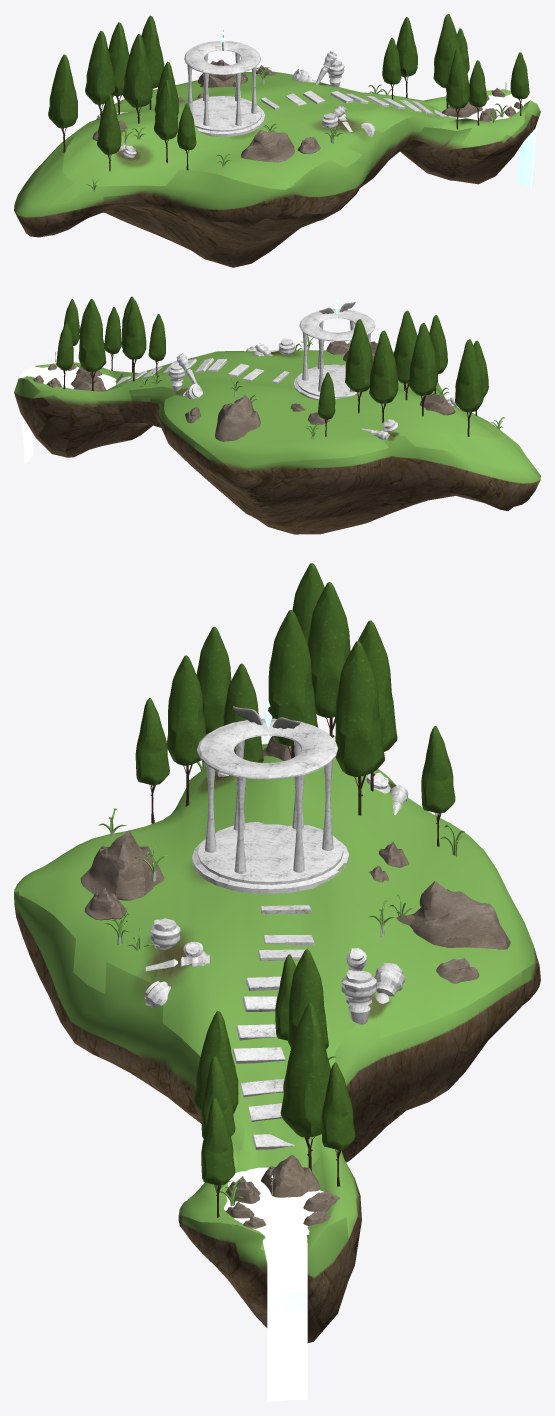
File: fantasy-environment.fbx
3 renders of one model, top to bottom at view 1: azimuth 30°, elevation 25°; view 2: azimuth 150°, elevation 25°; view 3: azimuth 270°, elevation 25°, orthographic. The views are drawn at different scales.
Visible parts, largest first — view 1: Landmass, Temple_with_Sceptre:Large_Crystal, Tree20, Tree24, Tree19, Water, Rock1, Tree27, Tree28, Tree26, Tree21, Tree22 (+10 smaller); view 2: Landmass, Temple_with_Sceptre:Large_Crystal, Tree20, Tree19, Tree22, Tree27, Tree23, Rock25, Water, Tree24, Tree11, Tree26 (+9 smaller); view 3: Landmass, Temple_with_Sceptre:Large_Crystal, Water, Tree23, Tree27, Rock25, Tree24, Tree19, Rock1, Tree26, Tree21, Tree34 (+12 smaller).
Boxes of the visible parts, x1,y1,x2,y2 form: Landmass: (14,71,540,267); Temple_with_Sceptre:Large_Crystal: (184,30,265,136); Tree20: (48,54,77,152); Tree24: (122,34,152,123); Tree19: (85,31,114,119); Water: (447,94,539,188); Rock1: (241,130,294,162); Tree27: (433,14,461,108); Tree28: (446,48,469,129); Tree26: (153,80,177,162); Tree21: (97,95,121,171); Tree22: (108,22,129,114); Landmass: (14,350,540,534); Temple_with_Sceptre:Large_Crystal: (293,298,375,400); Tree20: (455,339,483,436); Tree19: (409,323,437,416); Tree22: (369,330,398,422); Tree27: (78,299,106,390); Tree23: (345,319,372,413); Rock25: (215,395,260,441); Water: (16,366,116,463); Tree24: (393,310,417,400); Tree11: (122,300,146,381); Tree26: (429,315,447,395); Landmass: (14,743,540,1342); Temple_with_Sceptre:Large_Crystal: (192,698,349,893); Water: (224,1167,323,1401); Tree23: (335,641,384,815); Tree27: (280,1002,330,1170); Rock25: (396,881,510,949); Tree24: (268,610,317,758); Tree19: (307,582,350,737); Rock1: (80,830,164,900); Tree26: (167,655,205,806); Tree21: (196,626,231,734); Tree34: (135,698,169,823).
Bounding box in the file's own units: 36934 × 16911 × 17638.
9 materials, 9 textured.
